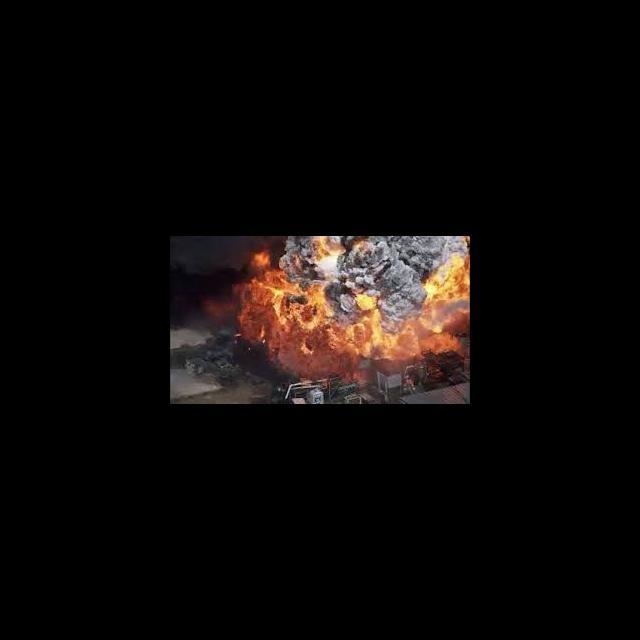Fire: (233, 284, 342, 360), (343, 322, 415, 363), (446, 260, 470, 354), (418, 288, 444, 362), (273, 362, 367, 378), (235, 267, 285, 285), (316, 236, 340, 258), (248, 247, 272, 266), (356, 295, 378, 310)
Smoke: (372, 237, 424, 290), (382, 290, 418, 318), (342, 256, 372, 287), (290, 236, 314, 274), (426, 236, 442, 264)
